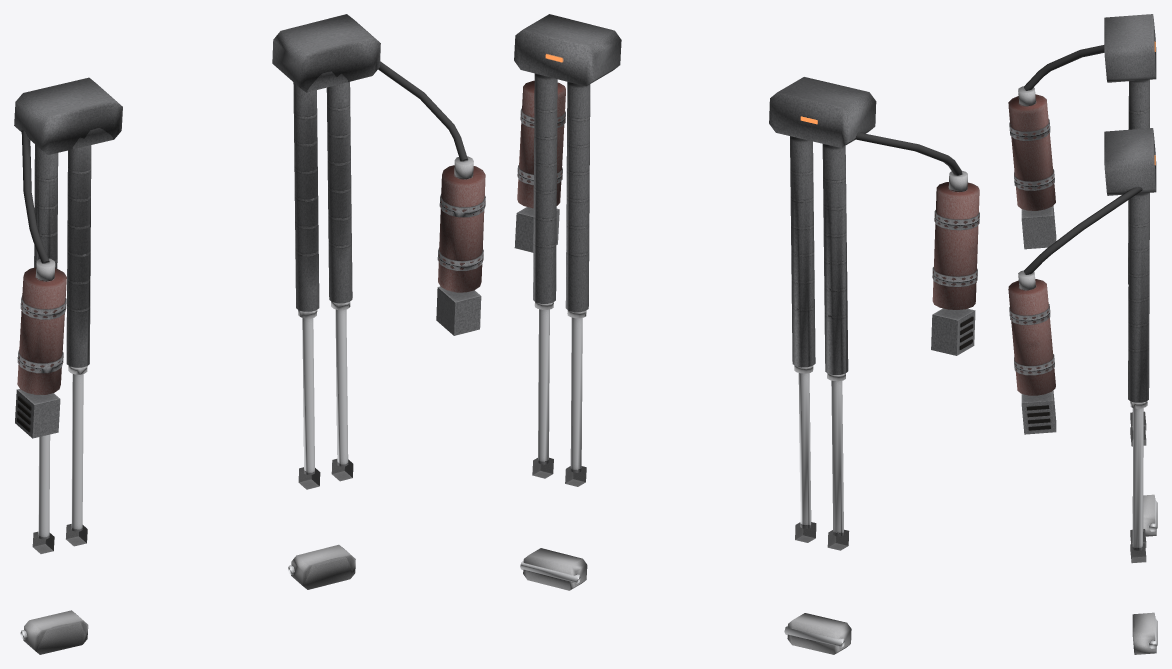
Rendered from sp6_sprint_pistons.gltf.
3 views of the same model, side by side, from view 1: azimuth 30°, elevation 25°; view 2: azimuth 150°, elevation 25°; view 3: azimuth 270°, elevation 25° (orthographic). The views are drawn at different scales.
Visible parts, largest first — view 1: B_shin_L__sp6_sprint_pistons, B_shin_R__sp6_sprint_pistons, B_foot_L__sp6_sprint_pistons, B_foot_R__sp6_sprint_pistons; view 2: B_shin_R__sp6_sprint_pistons, B_shin_L__sp6_sprint_pistons, B_foot_L__sp6_sprint_pistons, B_foot_R__sp6_sprint_pistons; view 3: B_shin_L__sp6_sprint_pistons, B_shin_R__sp6_sprint_pistons, B_foot_L__sp6_sprint_pistons, B_foot_R__sp6_sprint_pistons.
Part boxes in pixels (x1,y1,x2,y2): B_shin_L__sp6_sprint_pistons: (272, 14, 485, 489); B_shin_R__sp6_sprint_pistons: (14, 77, 122, 553); B_foot_L__sp6_sprint_pistons: (288, 544, 355, 589); B_foot_R__sp6_sprint_pistons: (20, 610, 88, 654); B_shin_R__sp6_sprint_pistons: (769, 77, 979, 550); B_shin_L__sp6_sprint_pistons: (514, 14, 621, 486); B_foot_L__sp6_sprint_pistons: (520, 548, 587, 590); B_foot_R__sp6_sprint_pistons: (784, 613, 851, 654); B_shin_L__sp6_sprint_pistons: (1008, 128, 1156, 563); B_shin_R__sp6_sprint_pistons: (1008, 14, 1156, 446); B_foot_L__sp6_sprint_pistons: (1132, 612, 1157, 654); B_foot_R__sp6_sprint_pistons: (1132, 494, 1157, 536).
Bounding box in the file's own units: 0.3886 × 0.4493 × 0.1209.
1 material, 1 textured.
